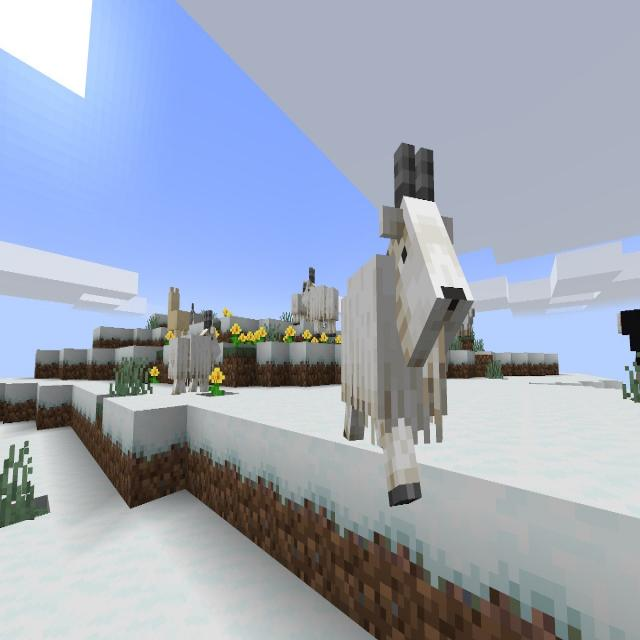Goat: (334, 139, 476, 521), (163, 319, 226, 397), (303, 264, 340, 347)
